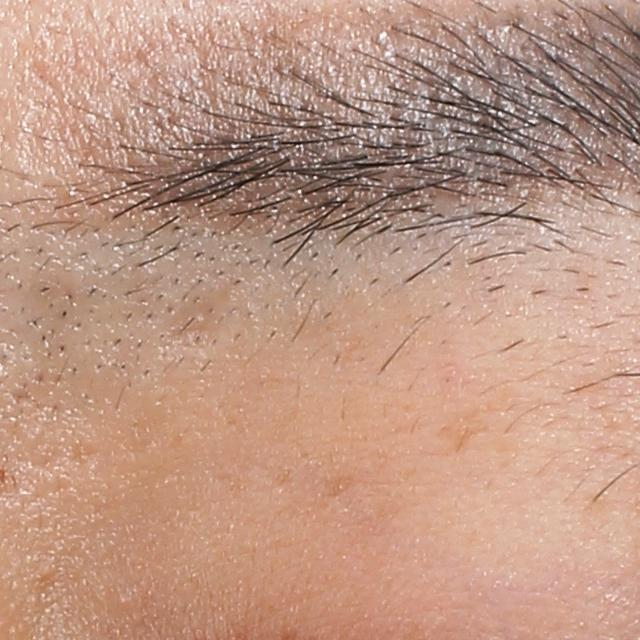comedo: (116, 593, 133, 610)
